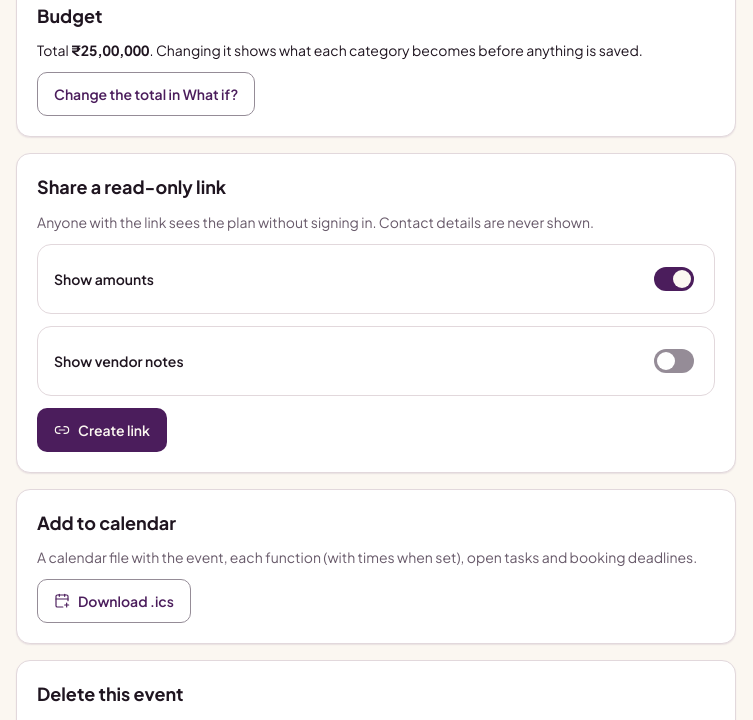
Event settings (spec 5.9) › creates, copies and turns off the share link
(page scrolled)
Click the switch named "Show vendor notes" in the row of "Show vendor notes".
click(674, 361)  # box [650, 339, 698, 383]
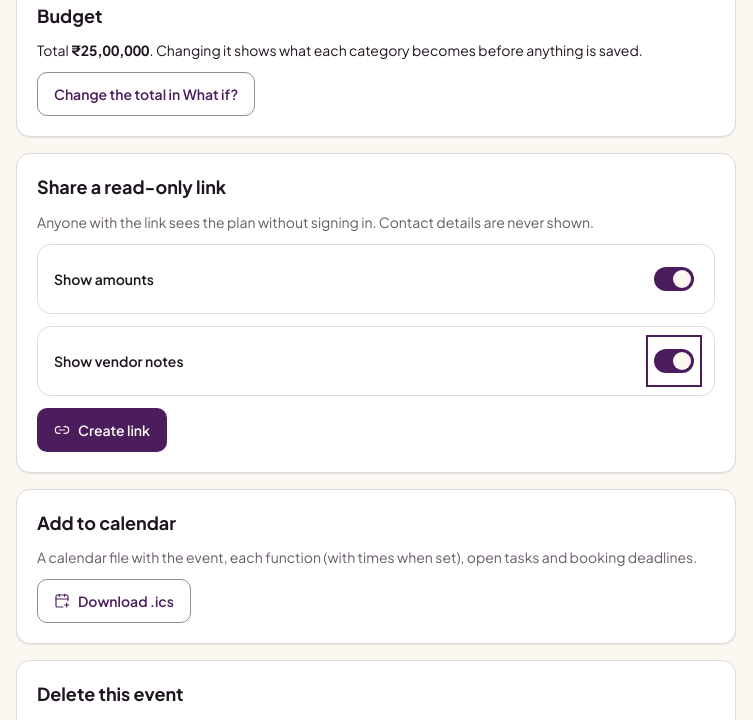
Click the button "Create link".
click(102, 430)  # box [37, 408, 167, 452]
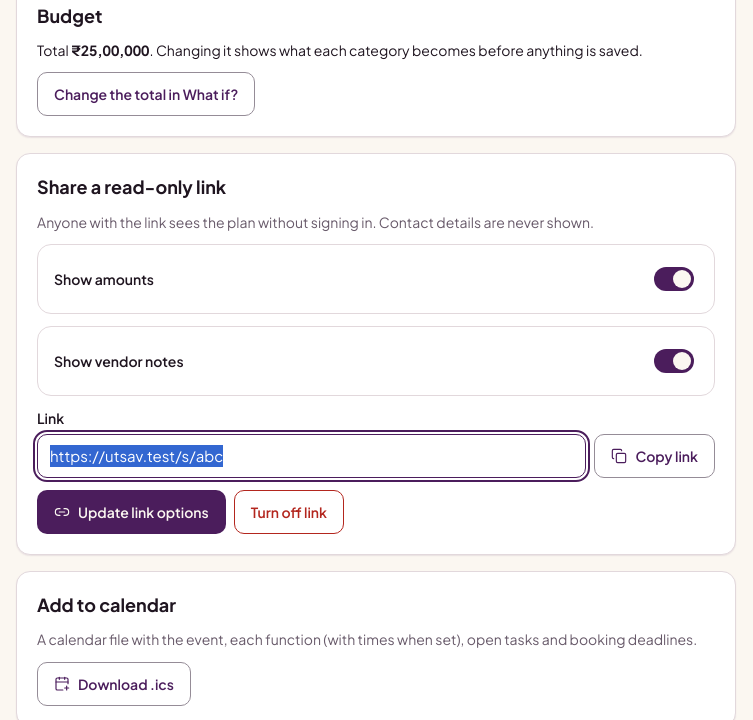
Result: the field labelled "Link" holds "https://utsav.test/s/abc" at [37, 434, 586, 478]
Click the button "Copy link".
click(655, 456)  # box [594, 434, 715, 478]
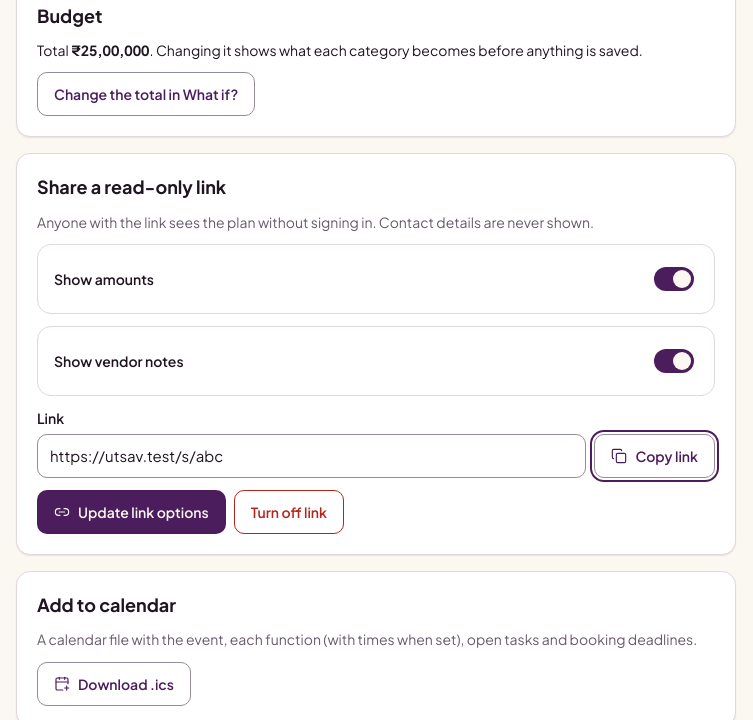
Result: the button "Update link options" is shown at [37, 490, 226, 534]
Click the button "Turn off link".
click(289, 512)  # box [234, 490, 344, 534]
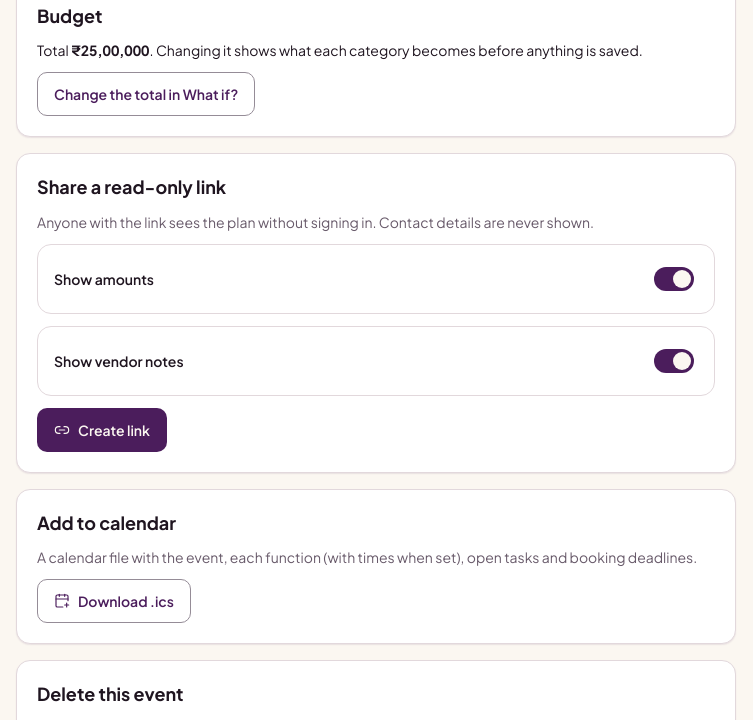
Result: the button "Create link" is shown at [37, 408, 167, 452]
